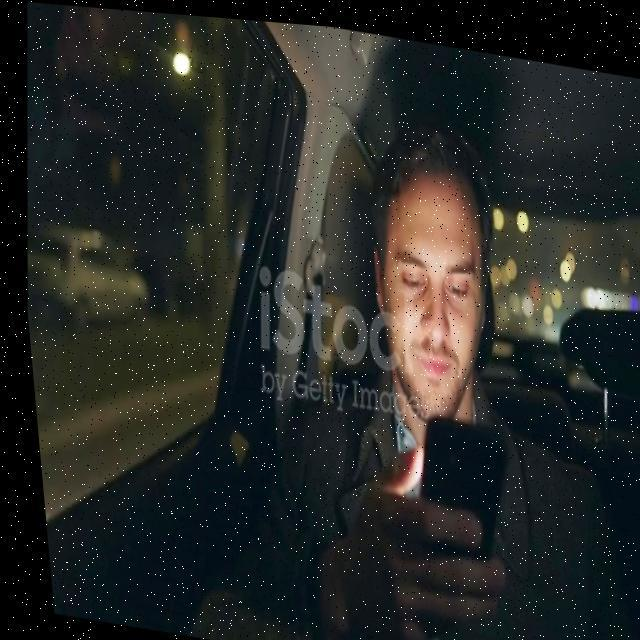PhoneCall: (395, 404, 510, 584)
